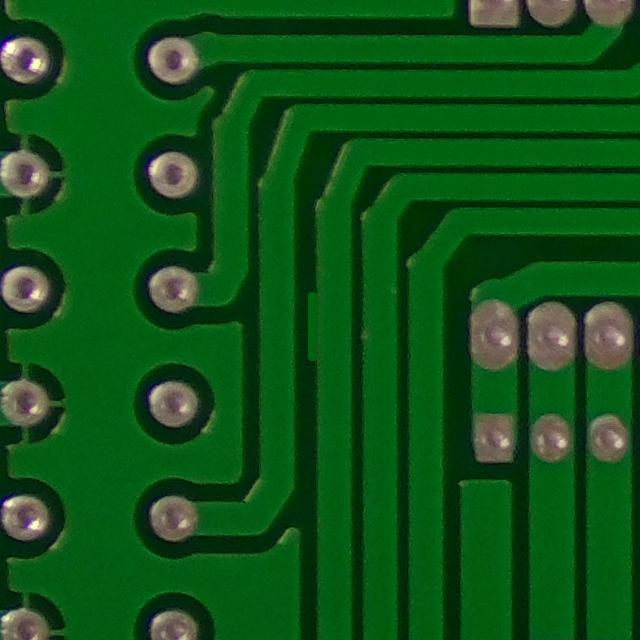spur: (300, 271, 340, 369)
